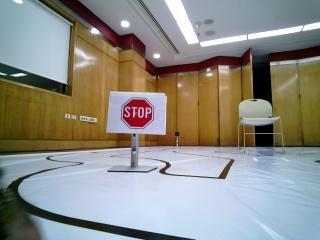stop: (104, 92, 171, 132)
